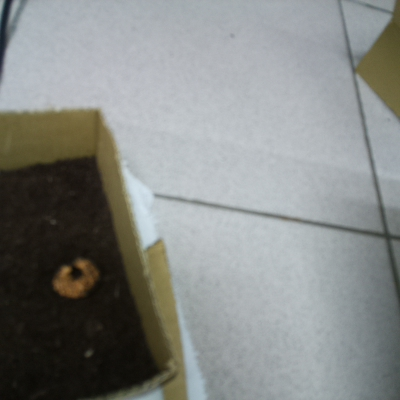eggs: (45, 255, 105, 304)
